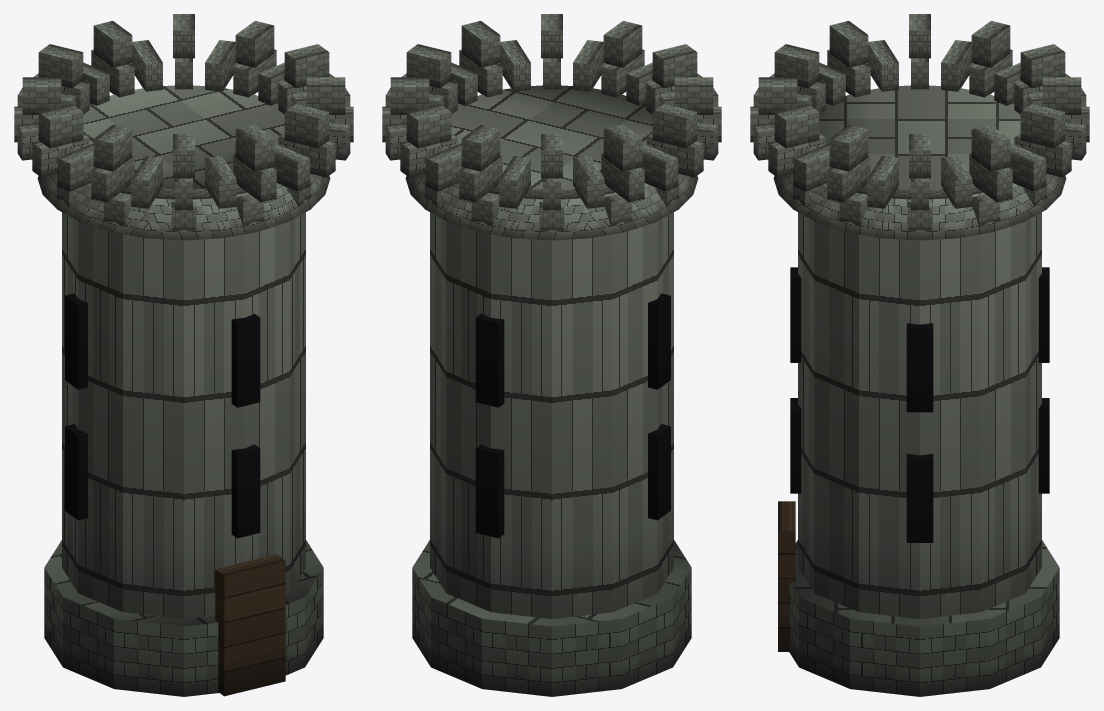
The model's file is guard_tower.glb.
The picture shows the model from 3 angles, left to right: view 1: azimuth 30°, elevation 25°; view 2: azimuth 150°, elevation 25°; view 3: azimuth 270°, elevation 25°; orthographic projection.
Visible parts, largest first — view 1: guard_tower; view 2: guard_tower; view 3: guard_tower.
Part boxes in pixels (<box>): guard_tower: <box>14,14,353,696</box>; guard_tower: <box>382,14,721,696</box>; guard_tower: <box>750,14,1089,696</box>.
Size of the model in its own units: 1.53 by 2.77 by 1.53.
1 material, 1 textured.
